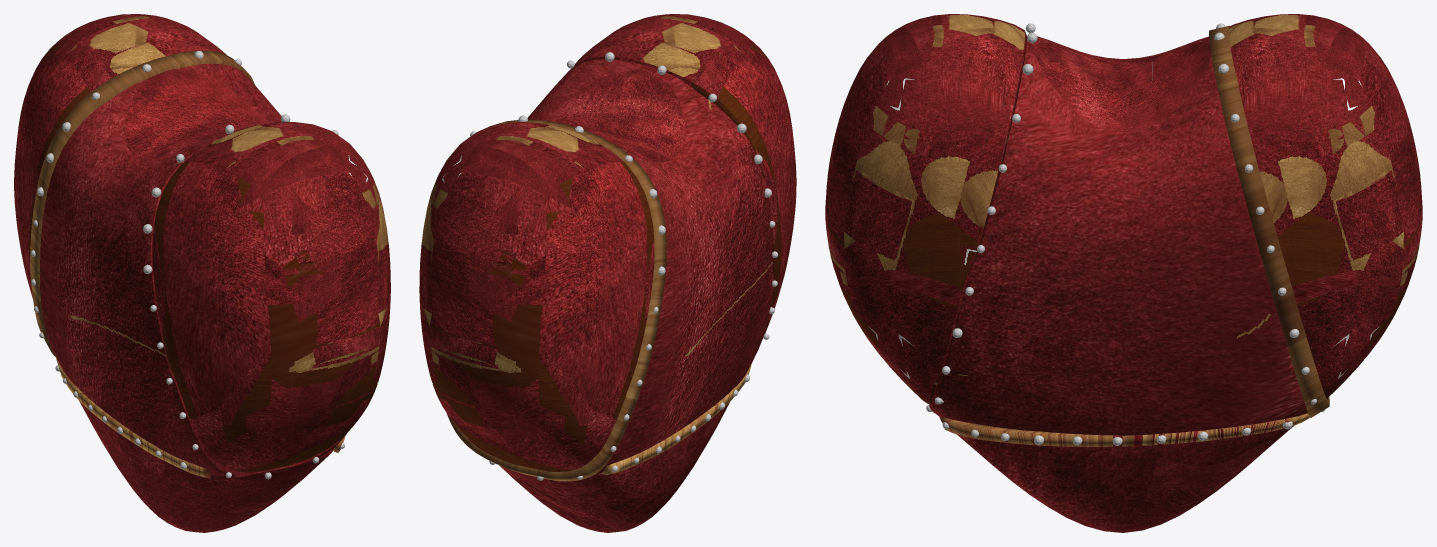
The model's file is HeartNew.fbx.
The picture shows the model from 3 angles, left to right: view 1: azimuth 30°, elevation 25°; view 2: azimuth 150°, elevation 25°; view 3: azimuth 270°, elevation 25°; orthographic projection. The views are drawn at different scales.
Parts seen in each view (by area): view 1: Side.000, Core, Side.001, Bottom, CapTopVelvet, HeartPart.001, BottomPart, GemsSide.001, GemsSide; view 2: Side.001, Core, Side.000, Bottom, CapTopVelvet, HeartPart.001, BottomPart, GemsSide.001, GemsSide; view 3: Core, Side.000, Side.001, Bottom, CapTopVelvet, HeartPart.001, BottomPart, GemsSide.001, GemsBottom, GemsSide.
Boxes of the visible parts, x1,y1,x2,y2 form: Side.000: [152, 122, 390, 472]; Core: [40, 63, 345, 476]; Side.001: [14, 14, 226, 298]; Bottom: [79, 401, 333, 532]; CapTopVelvet: [125, 68, 269, 162]; HeartPart.001: [30, 50, 254, 357]; BottomPart: [56, 358, 345, 478]; GemsSide.001: [143, 114, 357, 479]; GemsSide: [30, 50, 241, 338]; Side.001: [419, 122, 654, 471]; Core: [467, 59, 773, 474]; Side.000: [571, 14, 796, 338]; Bottom: [499, 402, 729, 532]; CapTopVelvet: [544, 69, 685, 162]; HeartPart.001: [446, 119, 666, 481]; BottomPart: [474, 364, 751, 475]; GemsSide.001: [567, 52, 778, 339]; GemsSide: [470, 115, 665, 480]; Core: [929, 36, 1307, 435]; Side.000: [825, 14, 1026, 403]; Side.001: [1229, 14, 1422, 398]; Bottom: [939, 417, 1293, 532]; CapTopVelvet: [1033, 41, 1211, 133]; HeartPart.001: [1209, 25, 1329, 417]; BottomPart: [940, 413, 1309, 446]; GemsSide.001: [926, 23, 1037, 411]; GemsBottom: [942, 421, 1292, 445]; GemsSide: [1214, 23, 1325, 411].
Size of the model in its own units: 489 by 896 by 965.
